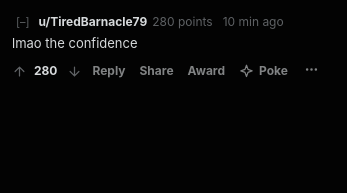
Test case: CommentTree › offers edit and delete only on your own comments
Click the 8th button: (311,71) [295,56,328,86]
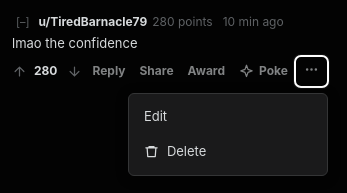
Now the button "Edit" is shown, box [134,98,322,134]
Now the button "Delete" is shown, box [134,134,322,170]
